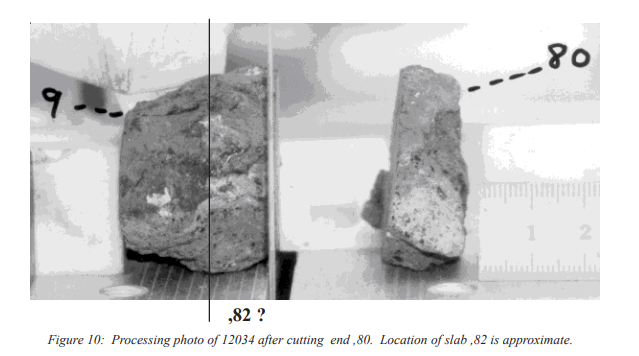Breccia: (88, 57, 296, 301), (376, 53, 526, 318)
